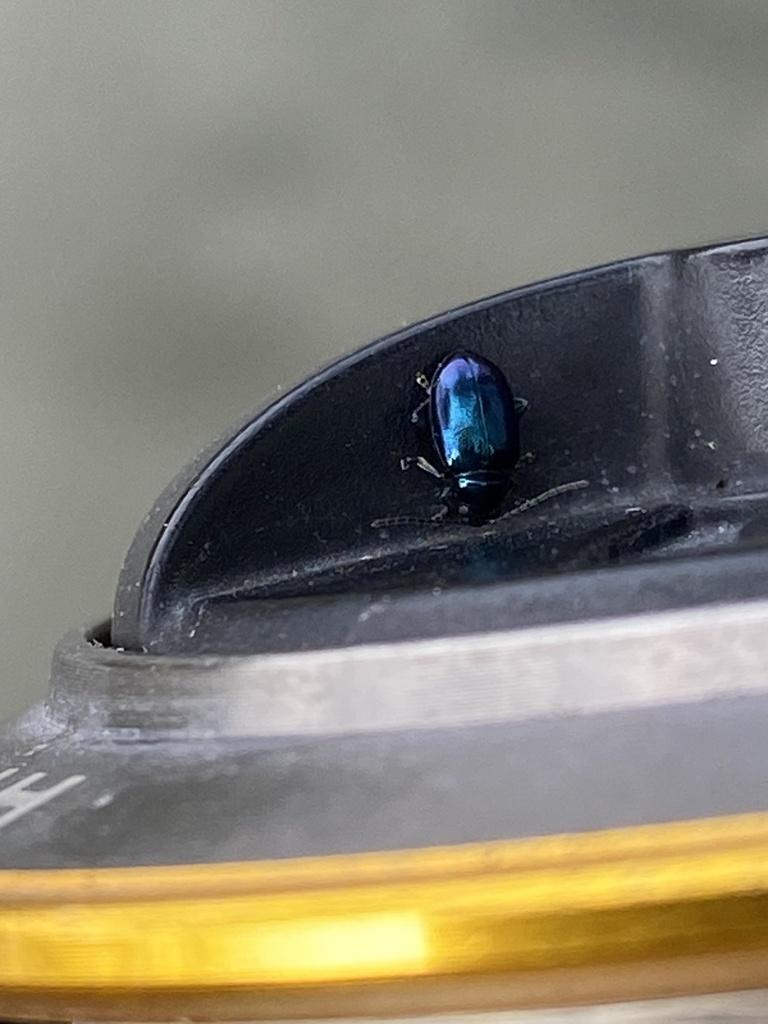flea_beetle: (362, 318, 601, 548)
